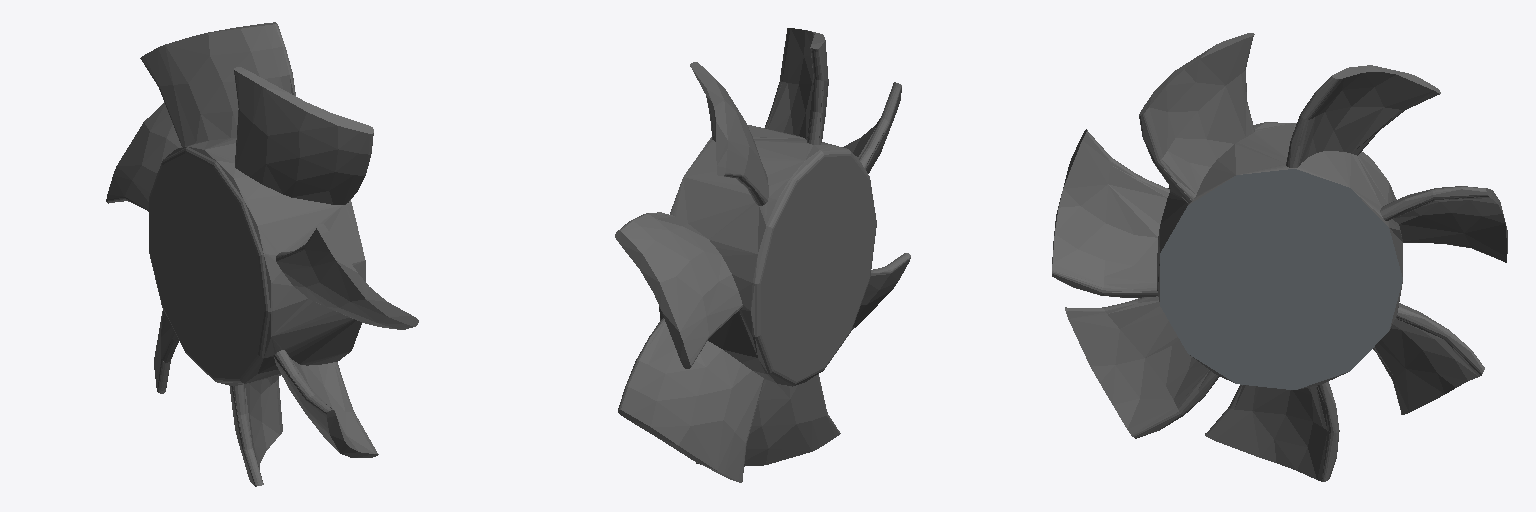
File: Mini_EFan.obj
3 renders of one model, left to right at view 1: azimuth 30°, elevation 25°; view 2: azimuth 150°, elevation 25°; view 3: azimuth 270°, elevation 25°, orthographic.
Parts seen in each view (by area): view 1: Prusa_Mini; view 2: Prusa_Mini; view 3: Prusa_Mini.
Boxes of the visible parts, box(x1,y1,x2,y2) form: Prusa_Mini: box(106, 22, 418, 486); Prusa_Mini: box(615, 28, 910, 482); Prusa_Mini: box(1052, 33, 1507, 481).
Bounding box in the file's own units: 9.33 × 36.88 × 37.